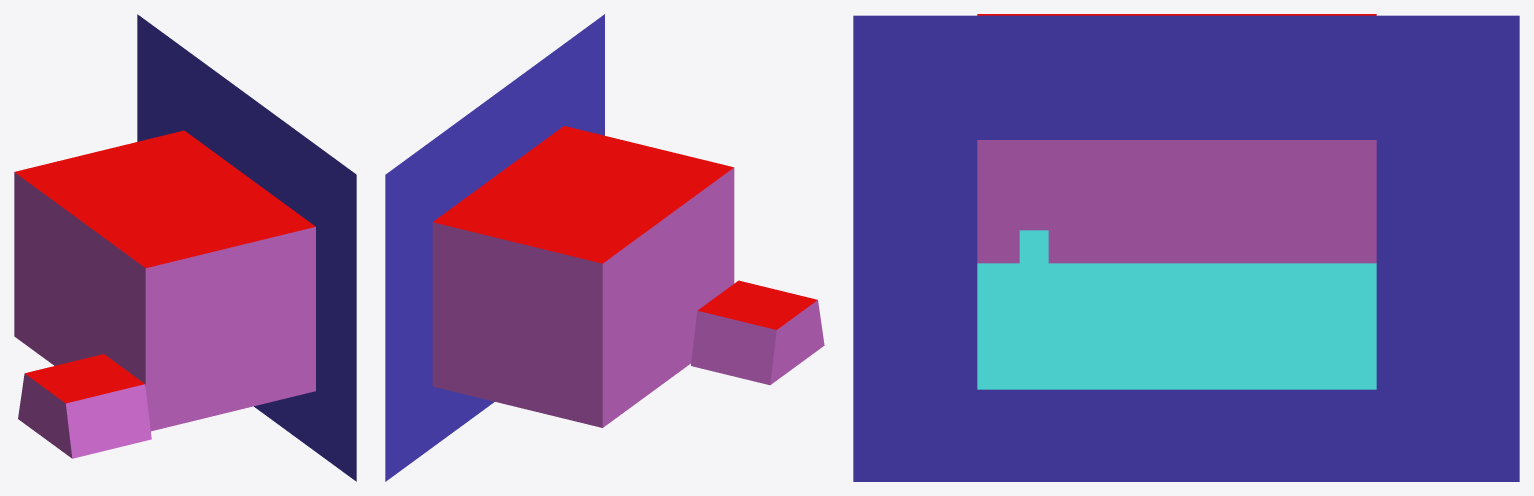
File: big_place_room.fbx
3 views of the same model, side by side, from view 1: azimuth 30°, elevation 25°; view 2: azimuth 150°, elevation 25°; view 3: azimuth 270°, elevation 25° (orthographic). The views are drawn at different scales.
Visible parts, largest first — view 1: Cube; view 2: Cube; view 3: Cube.
Boxes of the visible parts, box(x1,y1,x2,y2) form: Cube: box(14, 14, 356, 481); Cube: box(385, 14, 824, 481); Cube: box(853, 14, 1519, 481).
Size of the model in its own units: 3361 by 3916 by 5073.
